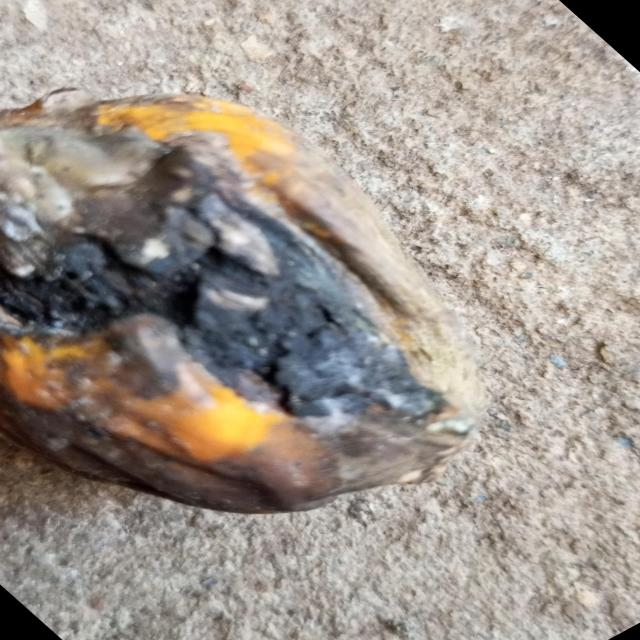damaged: (0, 90, 487, 517)
